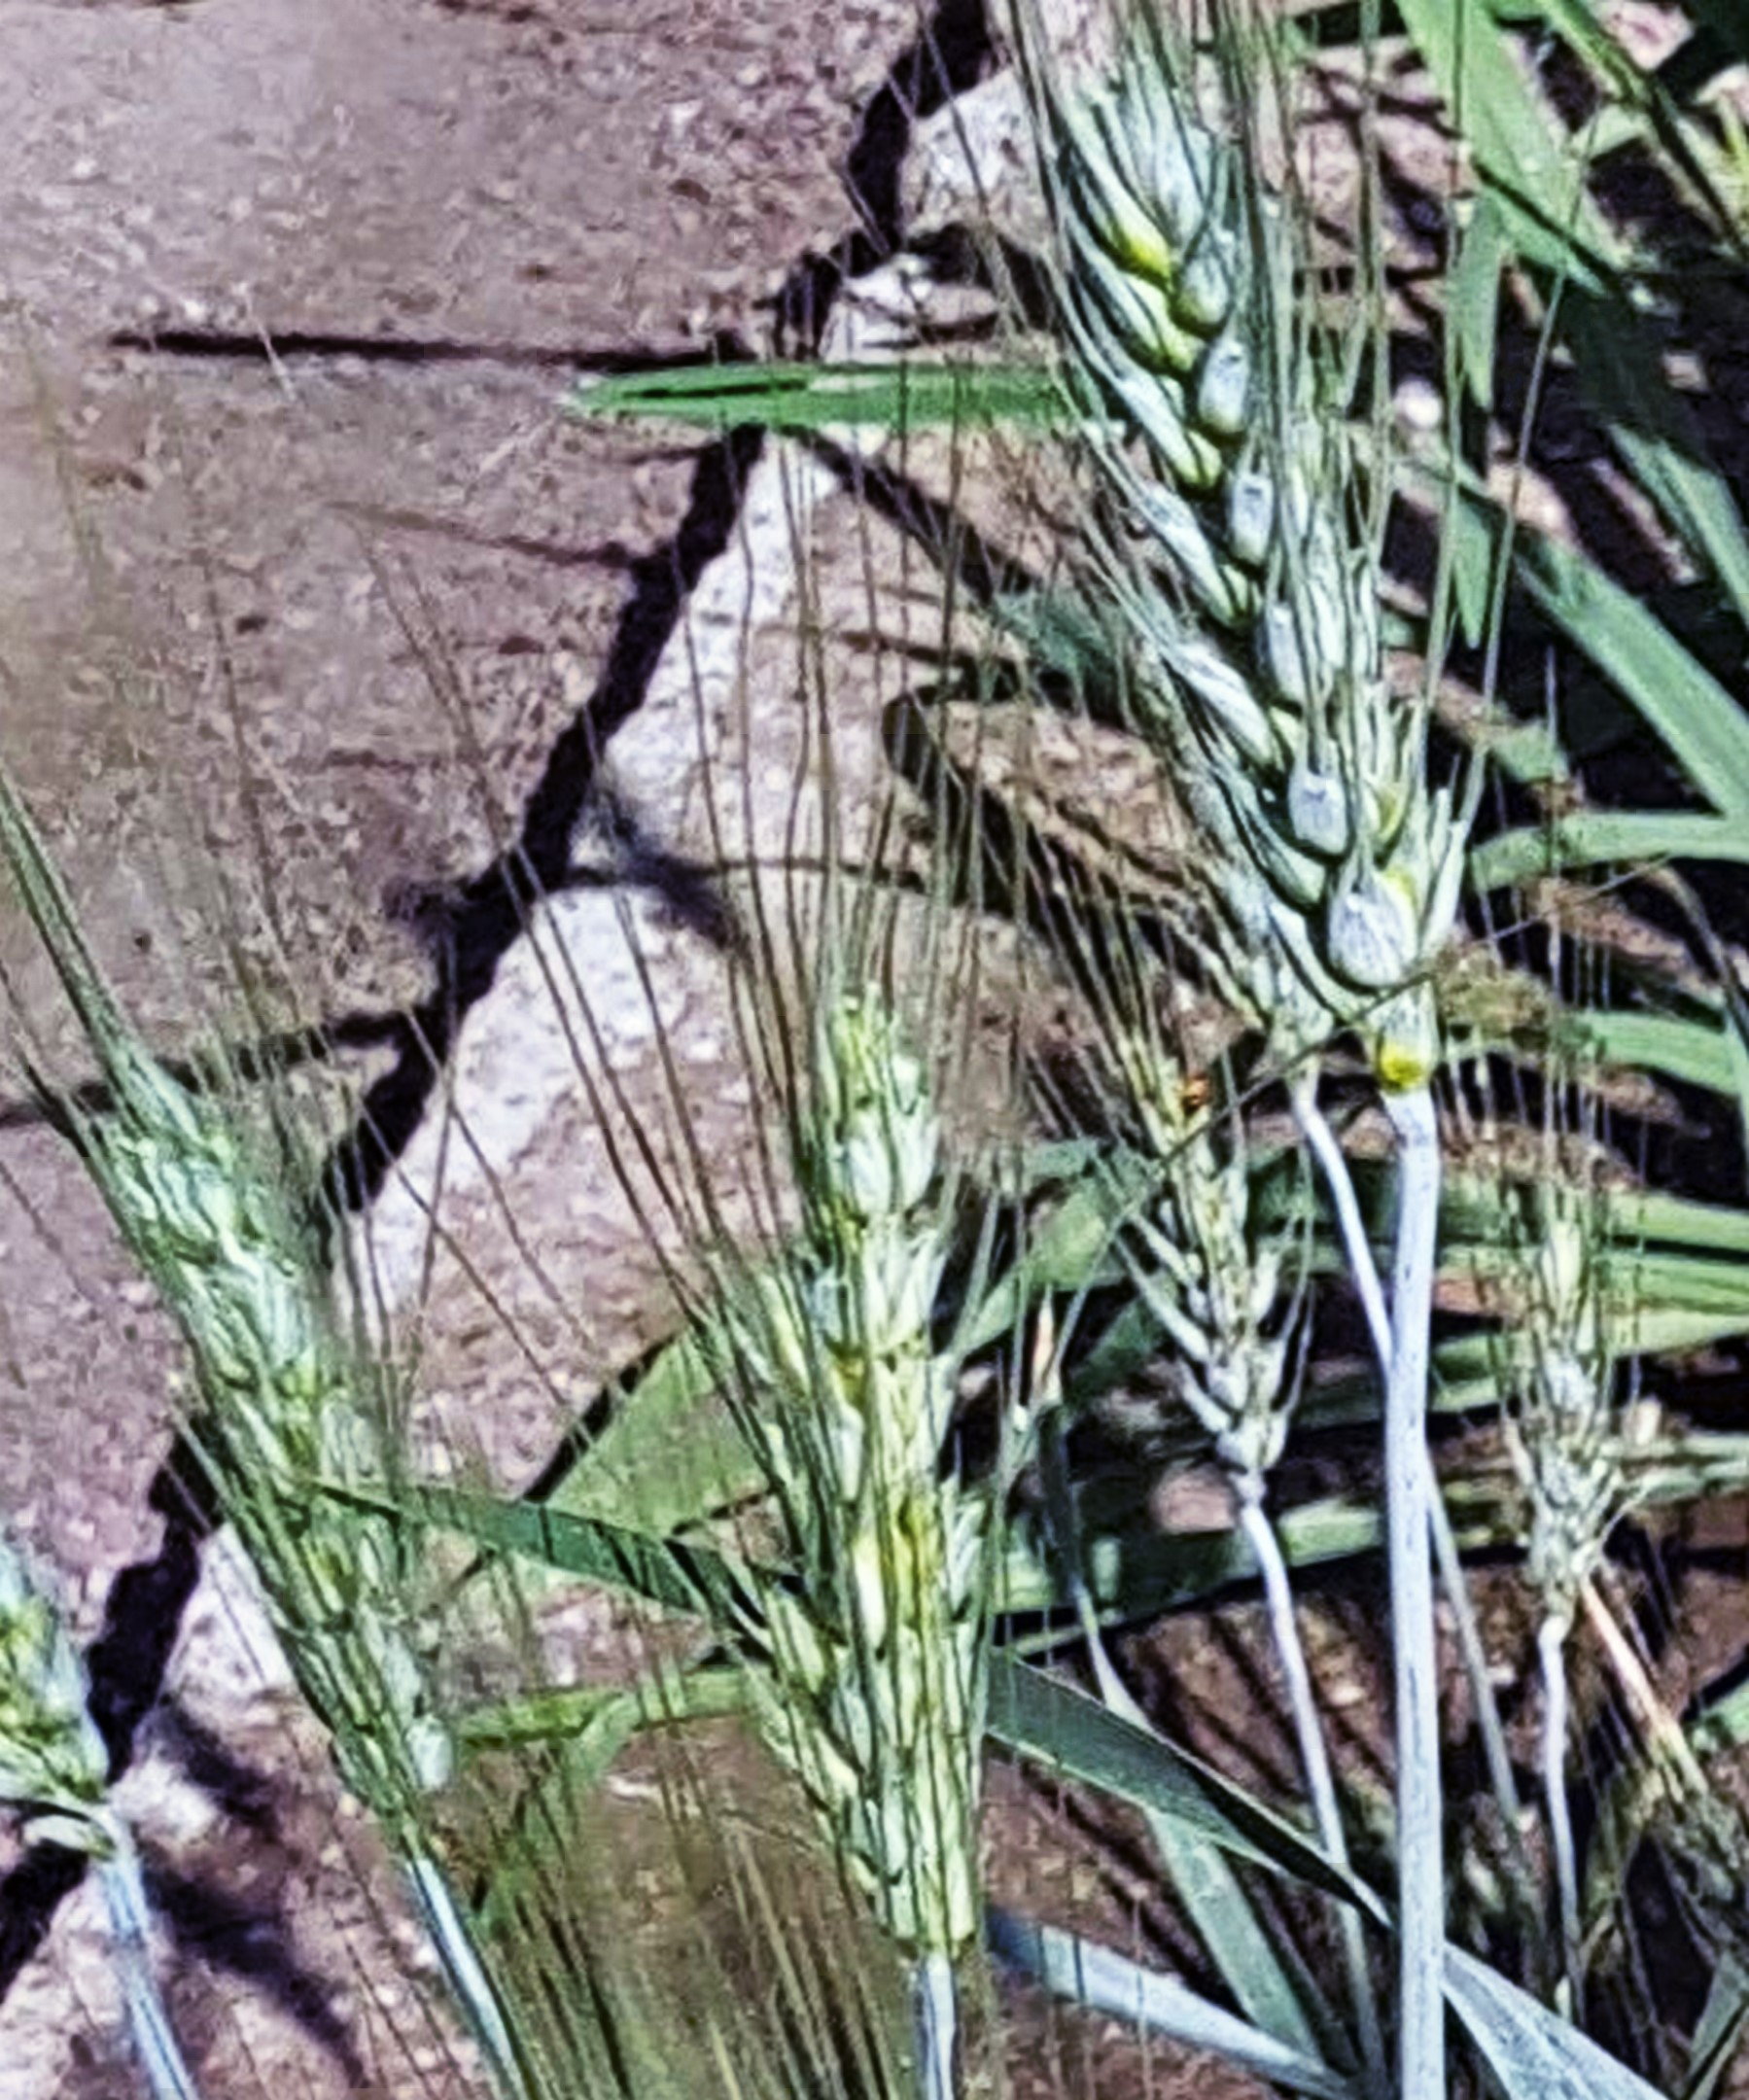Healthy Wheat: (1046, 82, 1473, 1036)
